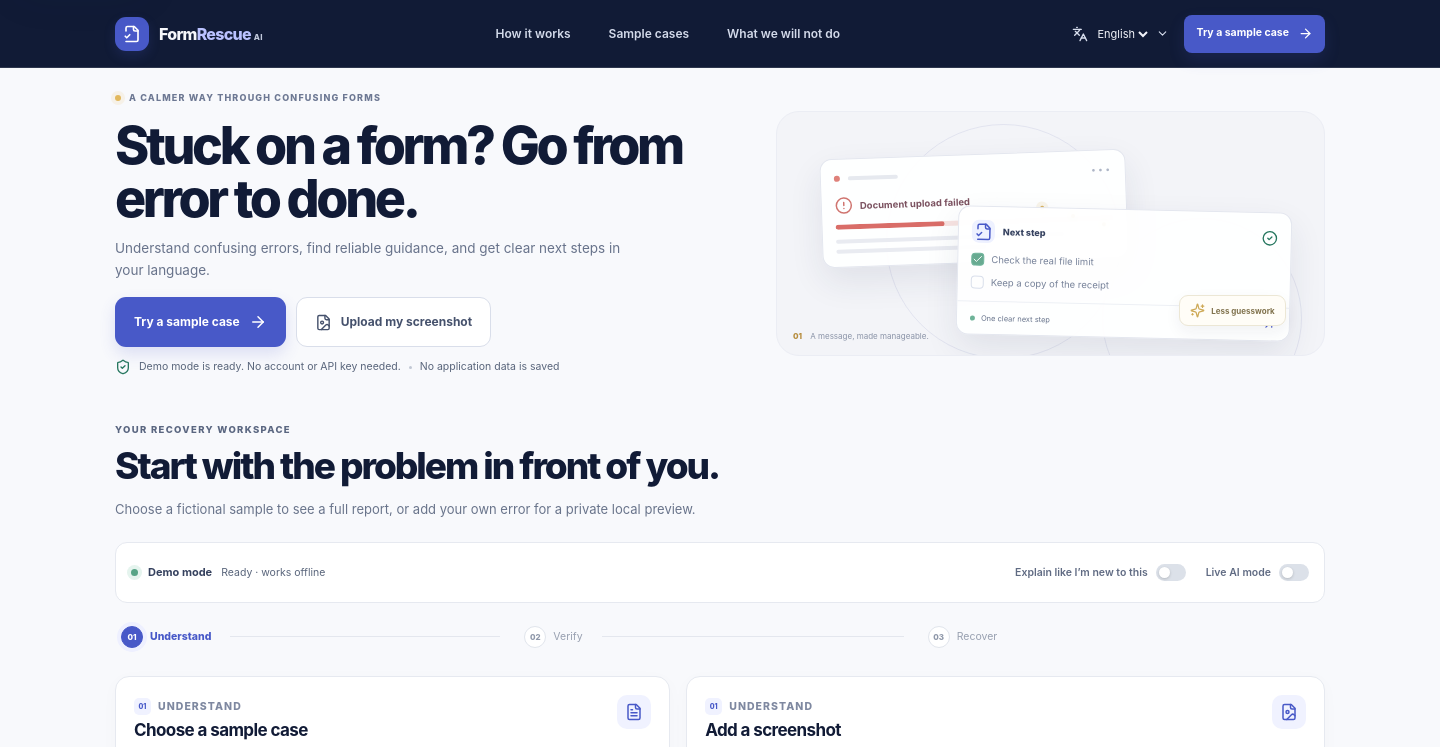
Scenario: FormRescue user workflows › opens the complete report for northstar-name
This screenshot has width=1440, height=747.
Click the button "Try a sample case" in the row of "Sample cases" at (1255, 34), box 1184,14 -> 1325,52
(page scrolled)
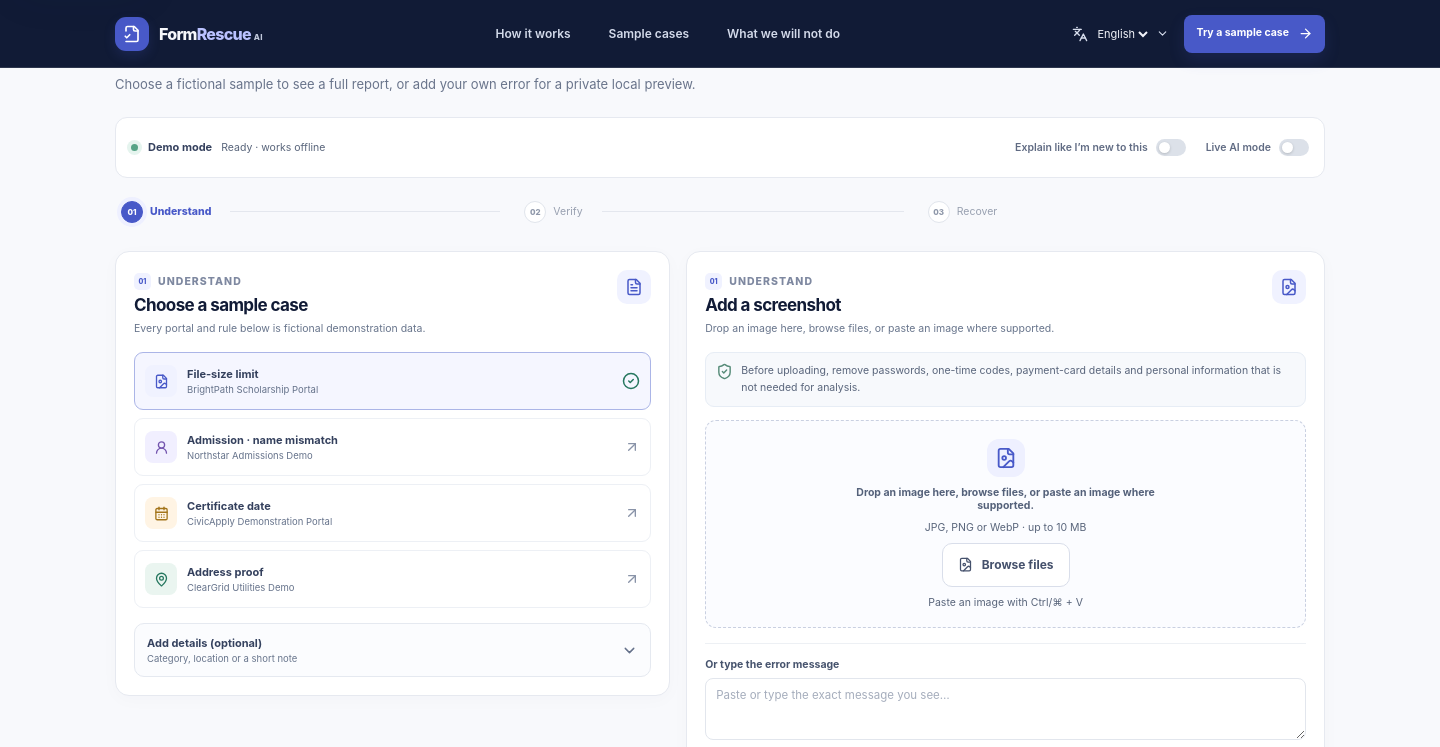
Click the button "Admission · name mismatch Northstar Admissions Demo" at (161, 447), box 134,418 -> 651,476
(page scrolled)
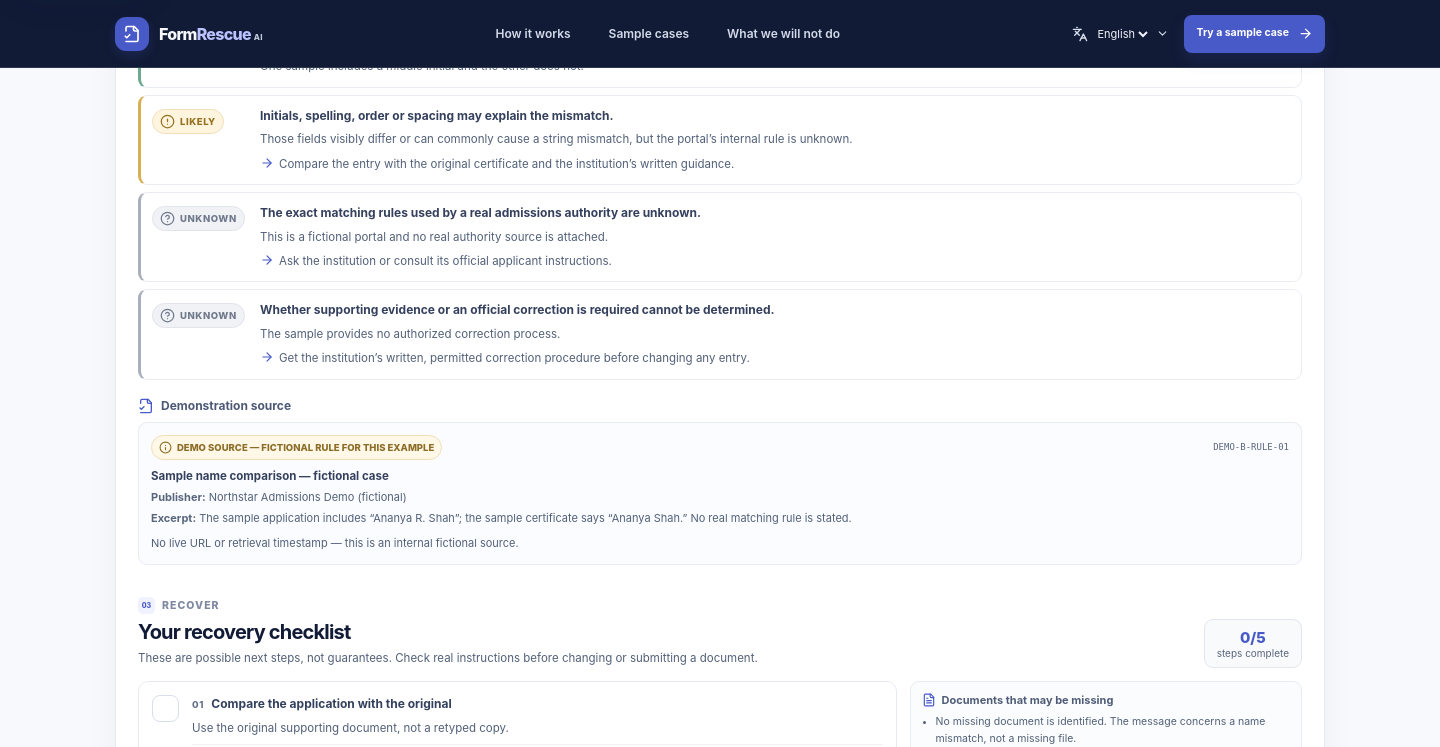
Check: the text "DEMO SOURCE — FICTIONAL RULE FOR THIS EXAMPLE" is shown, box 151,435 -> 442,460
Check: the text "DEMO-B-RULE-01" is shown, box 1213,442 -> 1289,452
